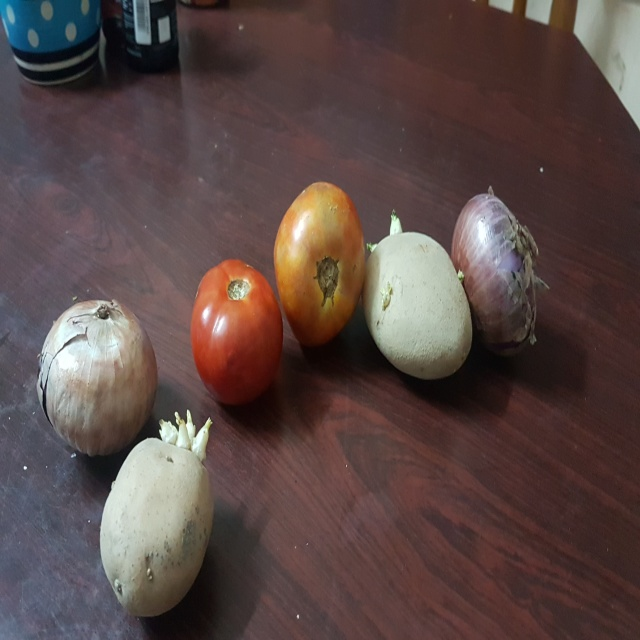onion: (28, 289, 171, 461), (448, 189, 552, 357)
potato: (90, 429, 234, 621), (359, 217, 475, 388)
tomato: (266, 167, 373, 363), (186, 256, 287, 408)
